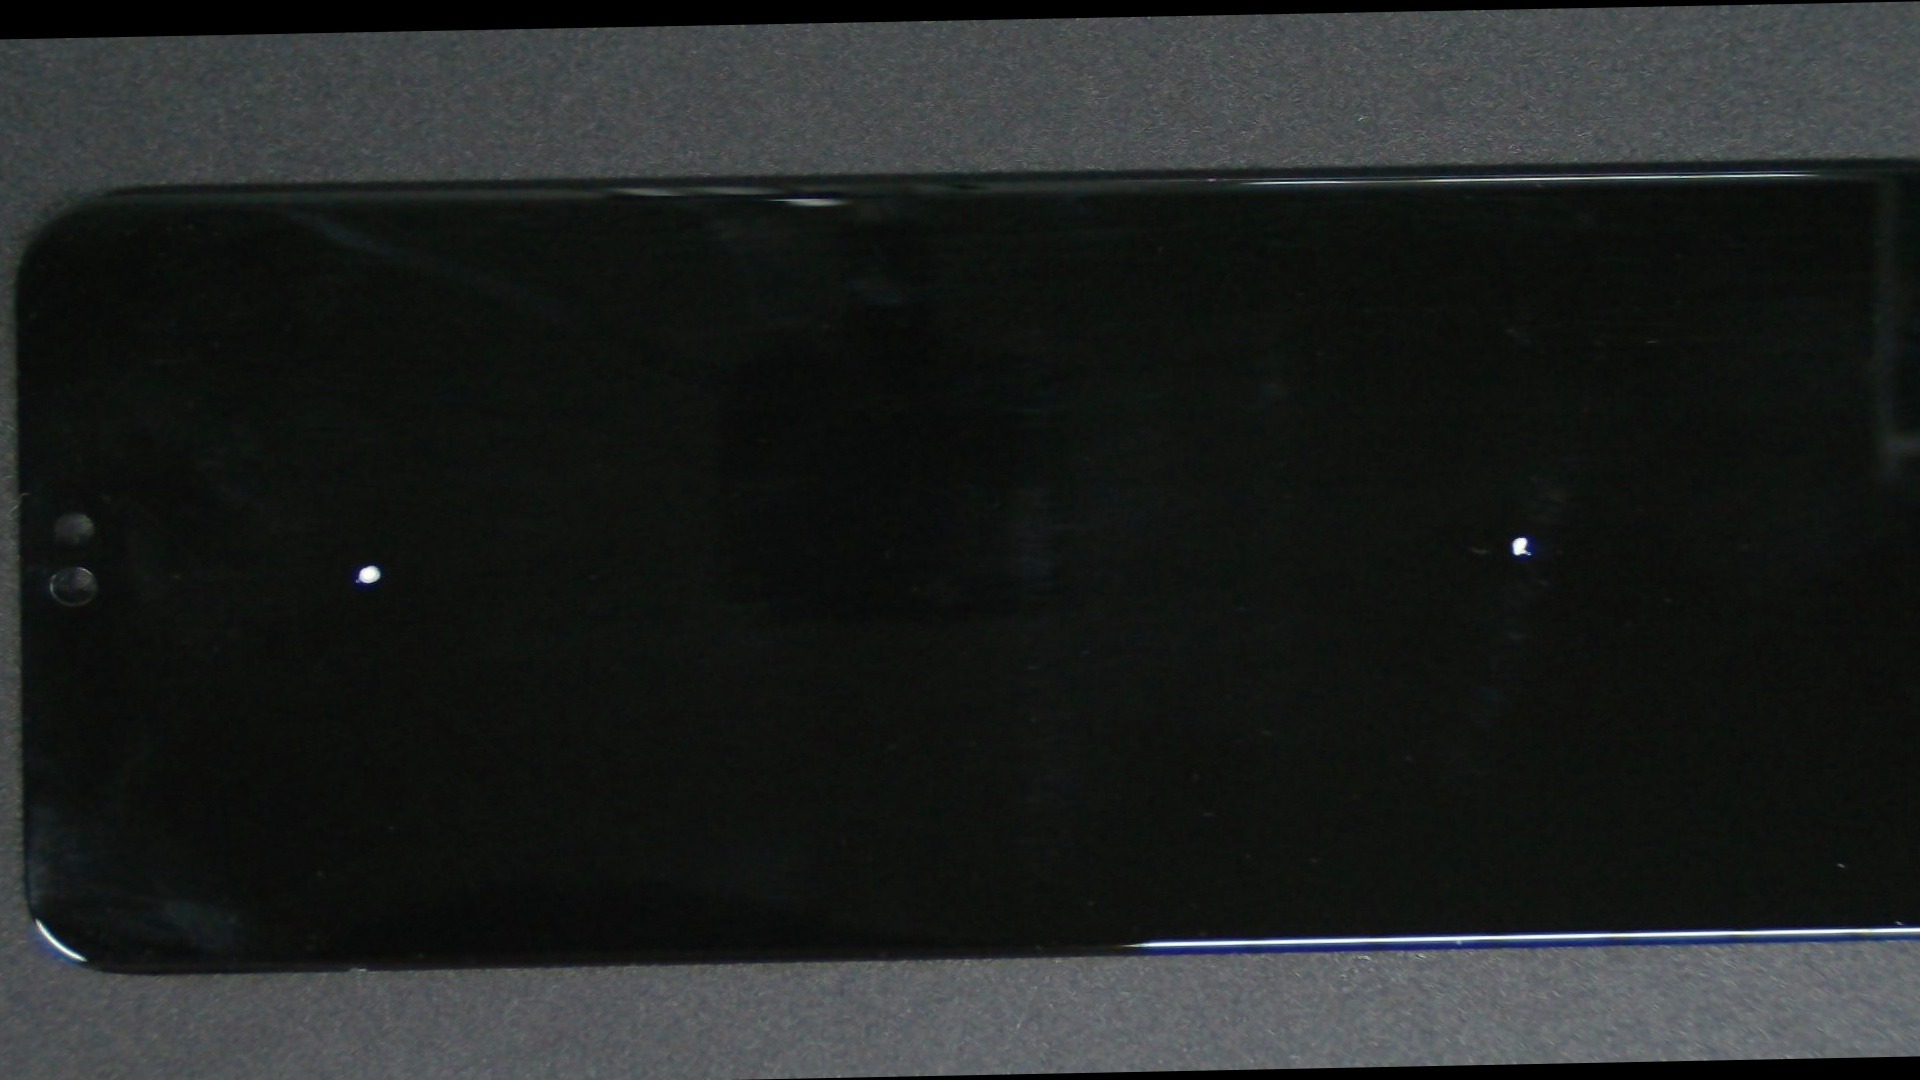oil: (688, 260, 1920, 816), (112, 293, 628, 836)
